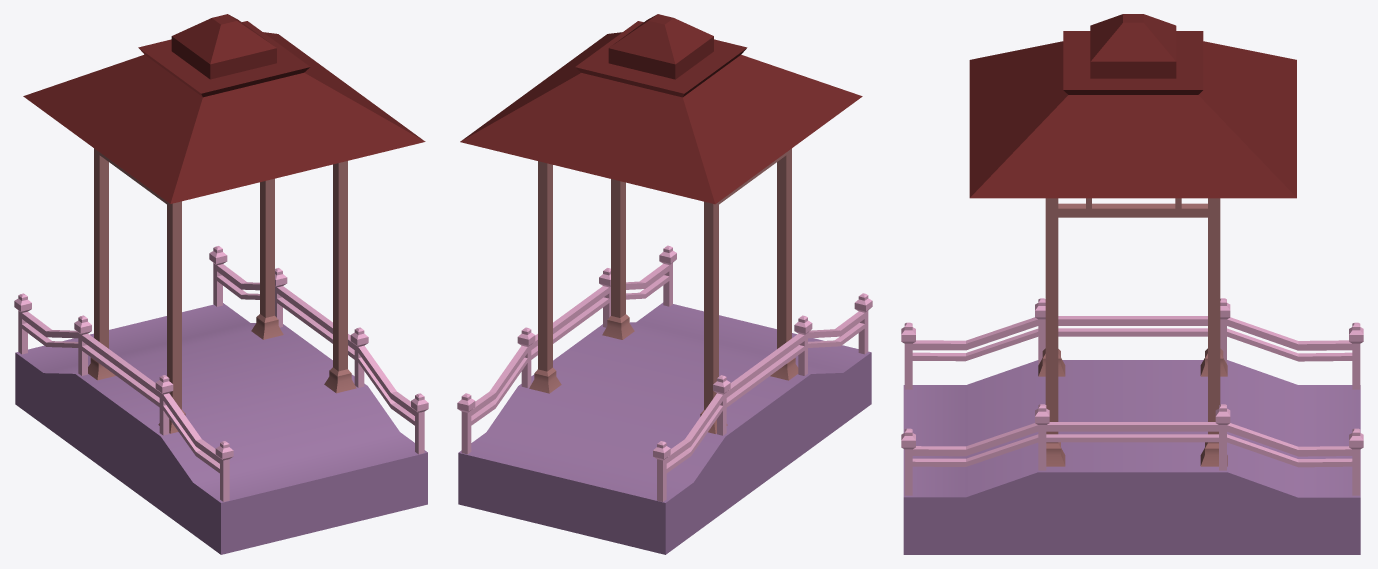
File: puente_b.fbx
The picture shows the model from 3 angles, left to right: view 1: azimuth 30°, elevation 25°; view 2: azimuth 150°, elevation 25°; view 3: azimuth 270°, elevation 25°; orthographic projection. The views are drawn at different scales.
Parts seen in each view (by area): view 1: pCube1, pCube13, pCube15, pCube14; view 2: pCube1, pCube13, pCube15, pCube14; view 3: pCube1, pCube13, pCube14, pCube15.
Part boxes in pixels (box(x1,y1,x2,y2)): pCube1: box(15, 303, 427, 554); pCube13: box(23, 14, 425, 203); pCube15: box(88, 148, 356, 433); pCube14: box(14, 246, 428, 501); pCube1: box(458, 302, 871, 554); pCube13: box(460, 14, 862, 204); pCube15: box(529, 148, 798, 433); pCube14: box(457, 245, 872, 501); pCube1: box(903, 360, 1360, 554); pCube13: box(969, 14, 1296, 198); pCube14: box(901, 298, 1363, 495); pCube15: box(1038, 198, 1227, 466).
Bounding box in the file's own units: 18.1 × 29.4 × 25.56.
